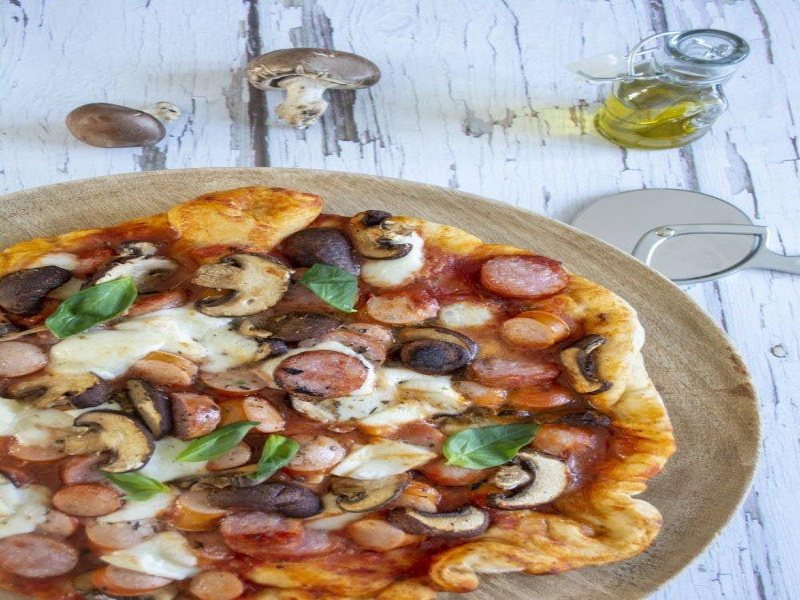champignon: (192, 246, 293, 323), (59, 408, 159, 480), (492, 451, 575, 512)
